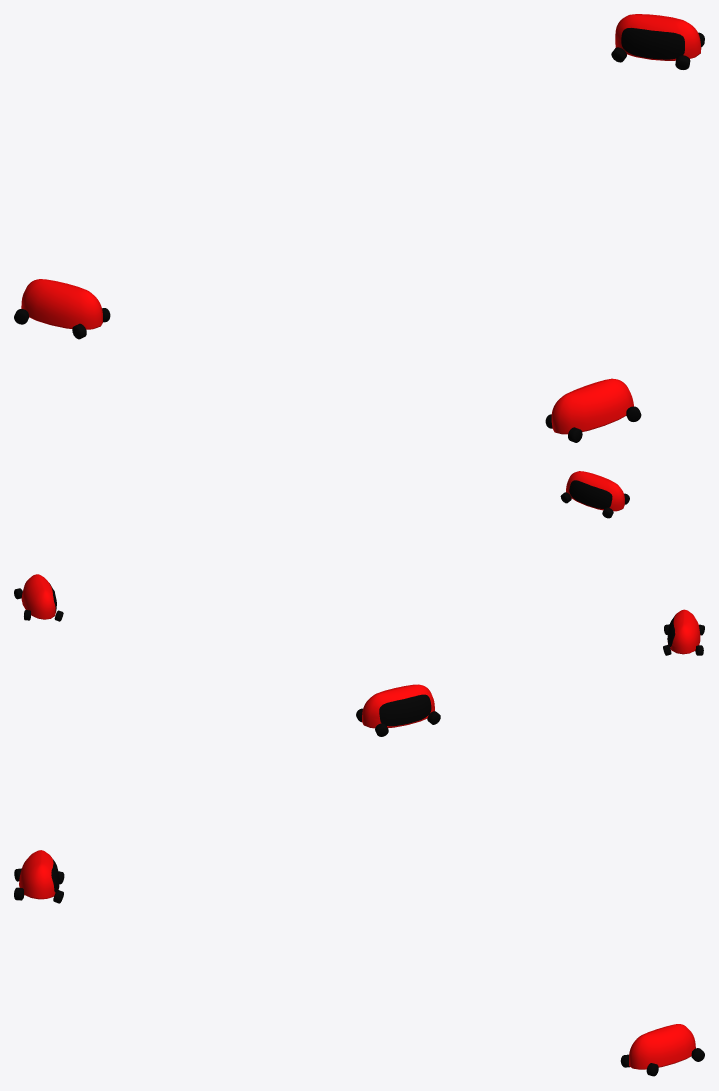
Rendered from trucks.glb.
3 renders of one model, top to bottom at view 1: azimuth 30°, elevation 25°; view 2: azimuth 150°, elevation 25°; view 3: azimuth 270°, elevation 25°, orthographic. The views are drawn at different scales.
Visible parts, largest first — view 1: trucks_out; view 2: trucks_out; view 3: trucks_out.
Boxes of the visible parts, <box> form: trucks_out: <box>14,14,704,442</box>; trucks_out: <box>14,471,704,655</box>; trucks_out: <box>14,684,704,1076</box>.
Size of the model in its own units: 459 by 40.32 by 378.
